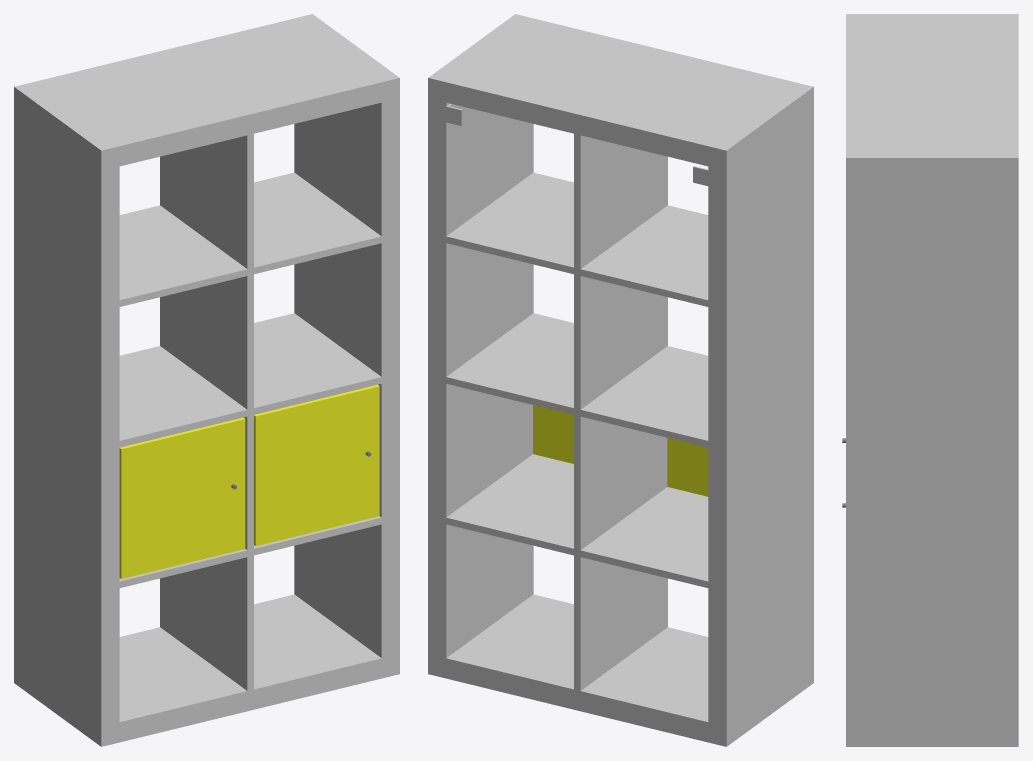
Rendered from KALLAX_Shelf_with_Doors_White_Yellow_Vertical.obj.
3 renders of one model, left to right at view 1: azimuth 30°, elevation 25°; view 2: azimuth 150°, elevation 25°; view 3: azimuth 270°, elevation 25°, orthographic.
Parts seen in each view (by area): view 1: Generic_Models; view 2: Generic_Models; view 3: Generic_Models.
Part boxes in pixels (x1=…): Generic_Models: x1=14, y1=14, x2=399, y2=746; Generic_Models: x1=428, y1=14, x2=813, y2=746; Generic_Models: x1=842, y1=14, x2=1018, y2=746.
Bounding box in the file's own units: 770 × 1470 × 398.
